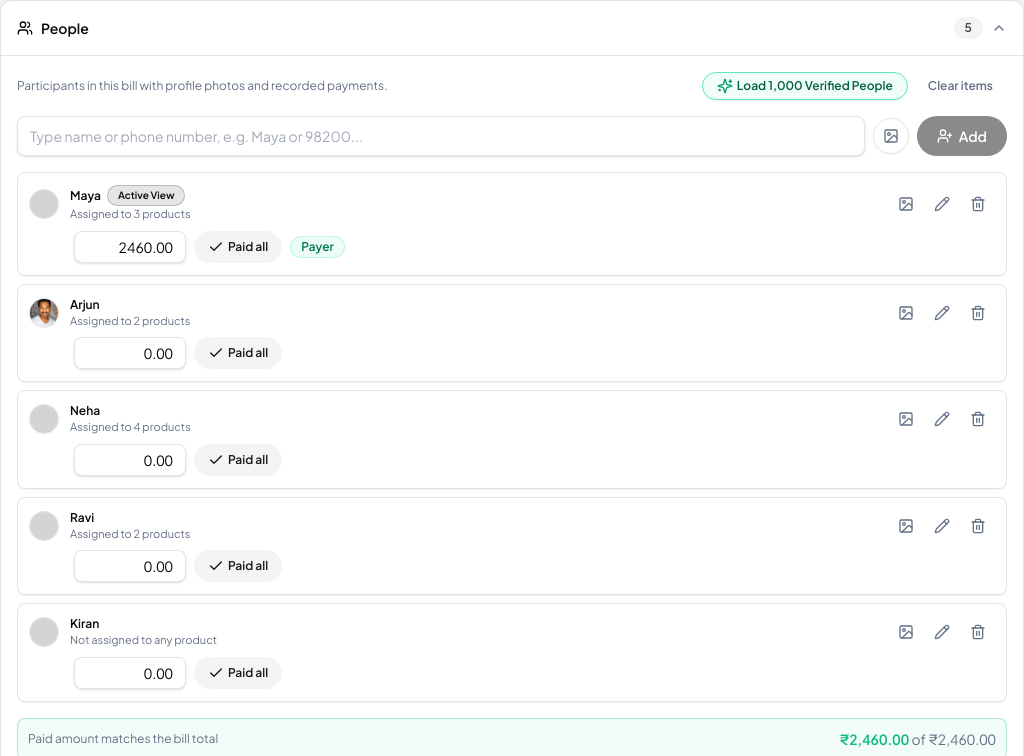
Test: dashboard › warns on duplicate person names and does not add them
Type "maya" into the field named "New person name".
click(441, 136); type("maya")  # box top-left (17, 116), bottom-right (865, 156)
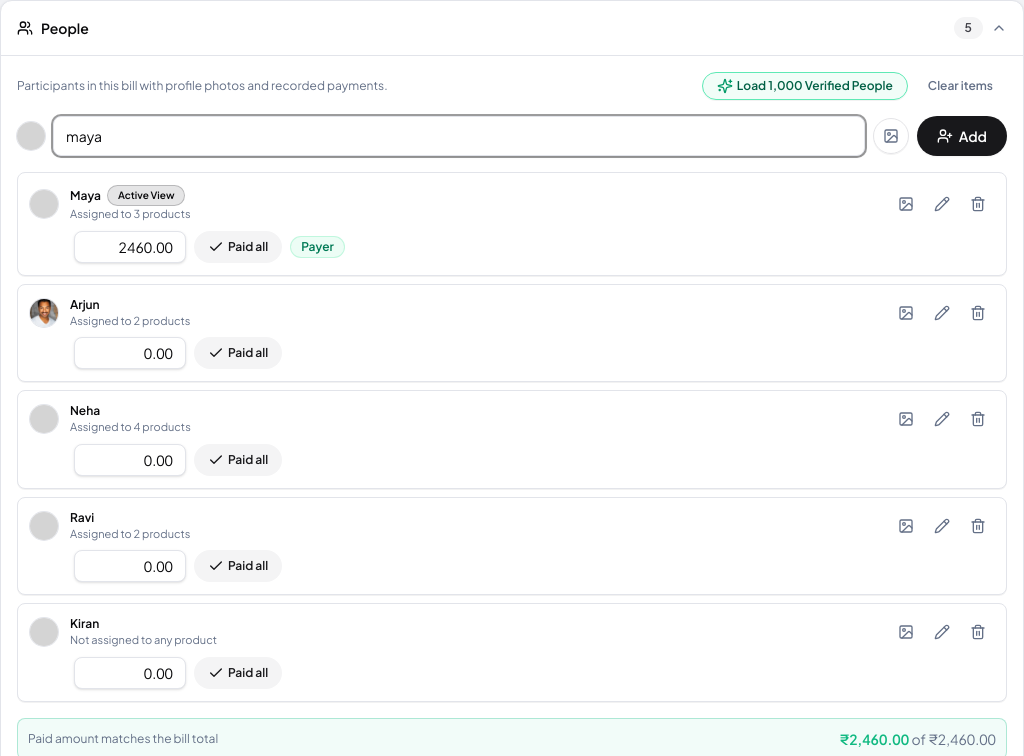
Click the button "Add".
click(962, 136)  # box top-left (917, 116), bottom-right (1007, 156)
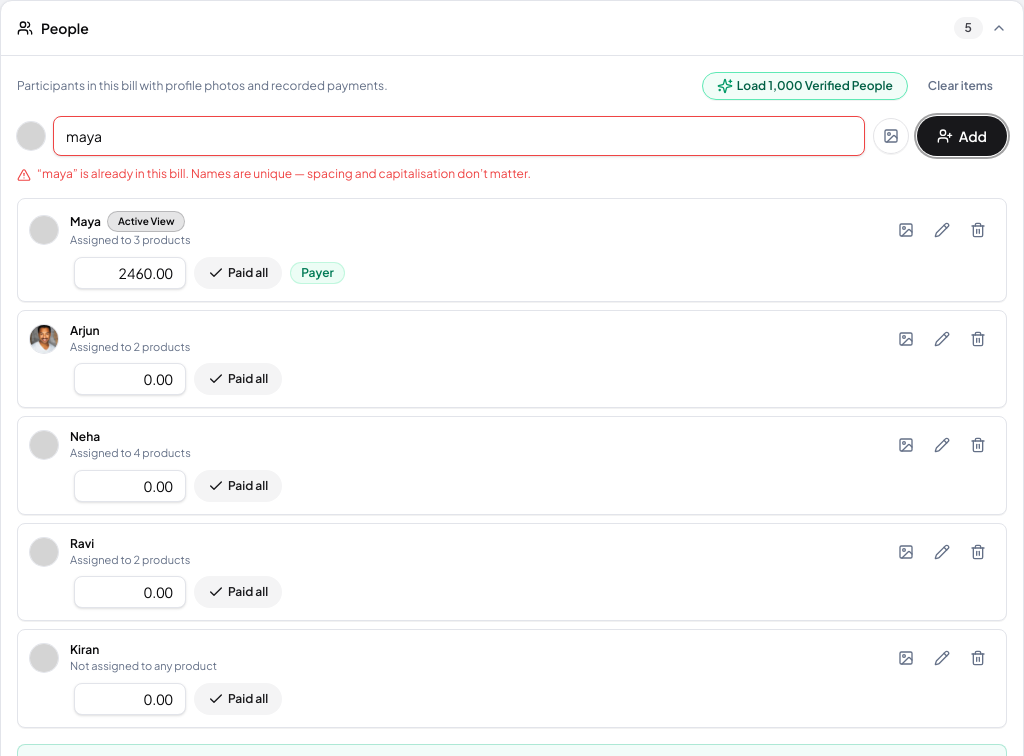
Expected: the number of fields named "Amount paid by " is 5, top-left (74, 256), bottom-right (186, 288); top-left (74, 363), bottom-right (186, 395); top-left (74, 470), bottom-right (186, 502); top-left (74, 576), bottom-right (186, 608); top-left (74, 682), bottom-right (186, 714)
Now the message shows "already in this bill", box top-left (37, 166), bottom-right (531, 181)
